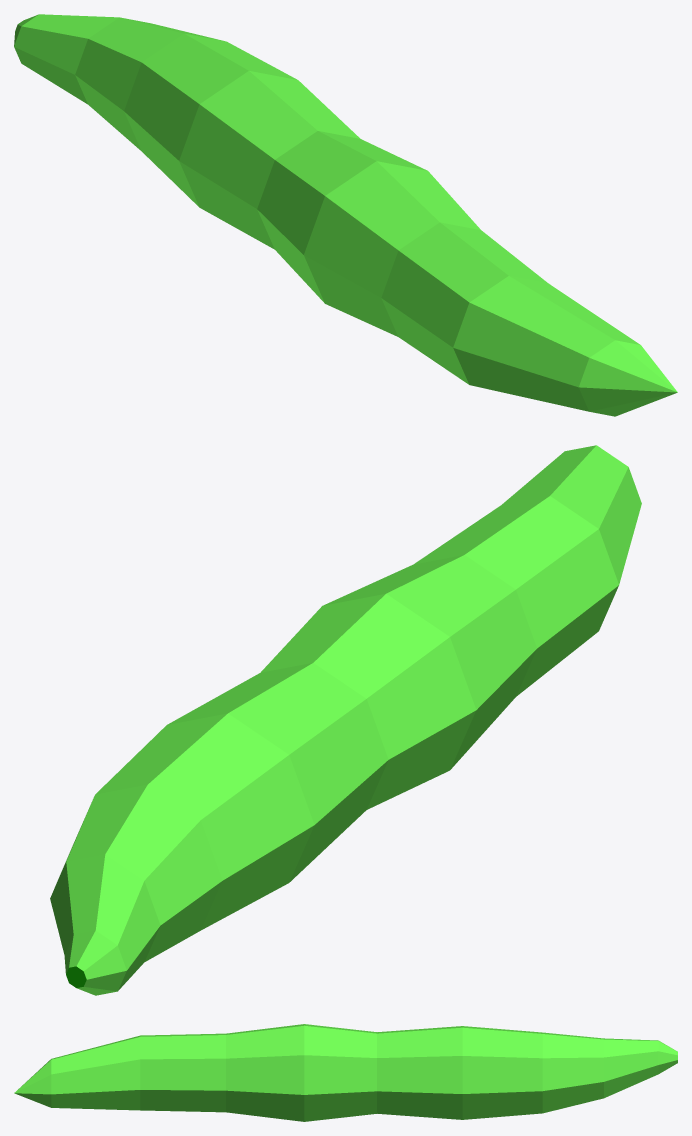
Rendered from bean01.gltf.
3 renders of one model, top to bottom at view 1: azimuth 30°, elevation 25°; view 2: azimuth 150°, elevation 25°; view 3: azimuth 270°, elevation 25°, orthographic. The views are drawn at different scales.
Parts seen in each view (by area): view 1: Cylinder; view 2: Cylinder; view 3: Cylinder.
Boxes of the visible parts, x1,y1,x2,y2 form: Cylinder: (14,14,677,416); Cylinder: (50,445,641,995); Cylinder: (14,1024,677,1121).
Size of the model in its own units: 0.0149 by 0.0145 by 0.0927.
Materials: 1 (1 with a texture image).
